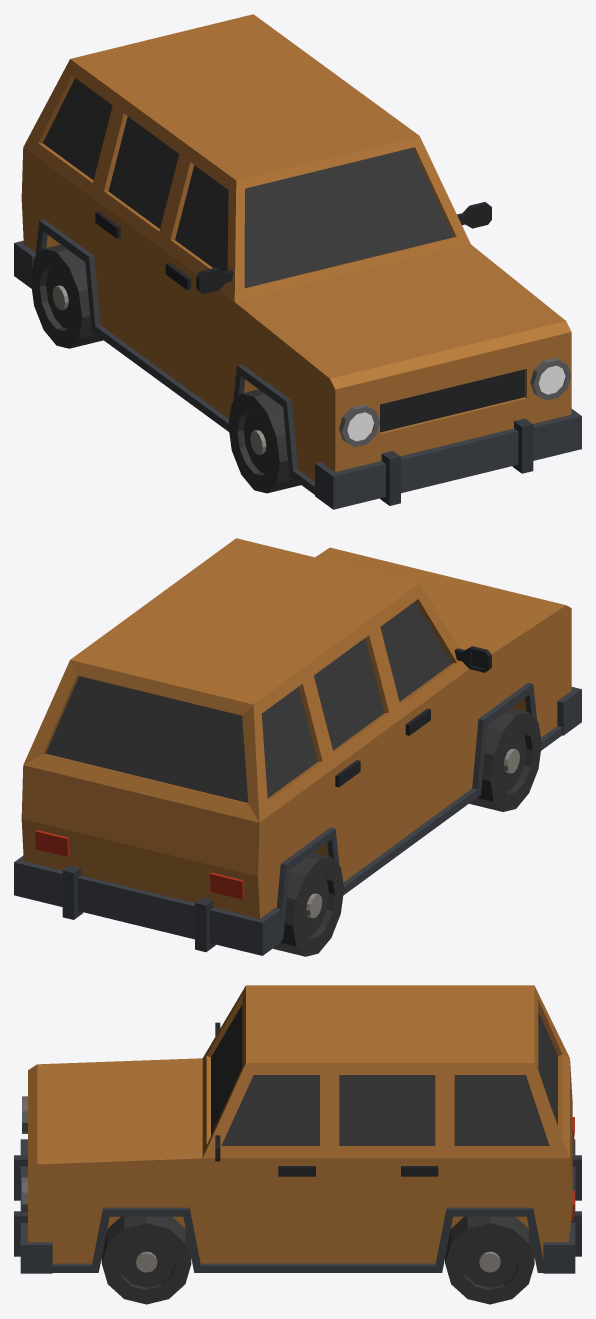
File: Jeep_1.fbx
3 views of the same model, one above another, from view 1: azimuth 30°, elevation 25°; view 2: azimuth 150°, elevation 25°; view 3: azimuth 270°, elevation 25° (orthographic). The views are drawn at different scales.
Visible parts, largest first — view 1: Jeep_1, JeepFrontWheels_1, JeepBackWheels_1; view 2: Jeep_1, JeepFrontWheels_1, JeepBackWheels_1; view 3: Jeep_1, JeepBackWheels_1, JeepFrontWheels_1.
Boxes of the visible parts, x1,y1,x2,y2 form: Jeep_1: [14, 14, 581, 509]; JeepFrontWheels_1: [228, 389, 300, 493]; JeepBackWheels_1: [30, 244, 103, 348]; Jeep_1: [14, 538, 581, 955]; JeepFrontWheels_1: [469, 708, 541, 811]; JeepBackWheels_1: [273, 852, 344, 956]; Jeep_1: [14, 985, 581, 1273]; JeepBackWheels_1: [445, 1216, 534, 1304]; JeepFrontWheels_1: [101, 1216, 191, 1304].
Size of the model in its own units: 199 by 168 by 386.
